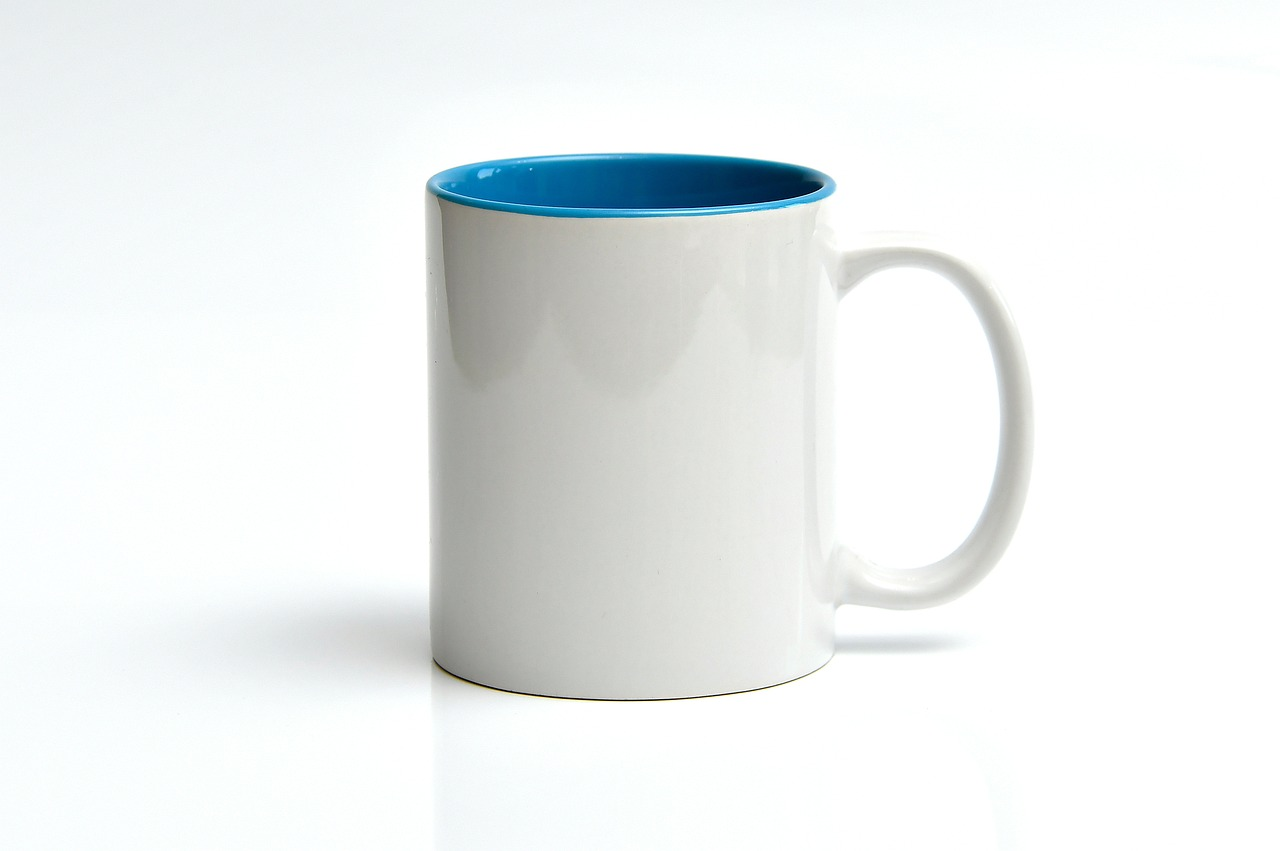mug: (382, 145, 1063, 727)
